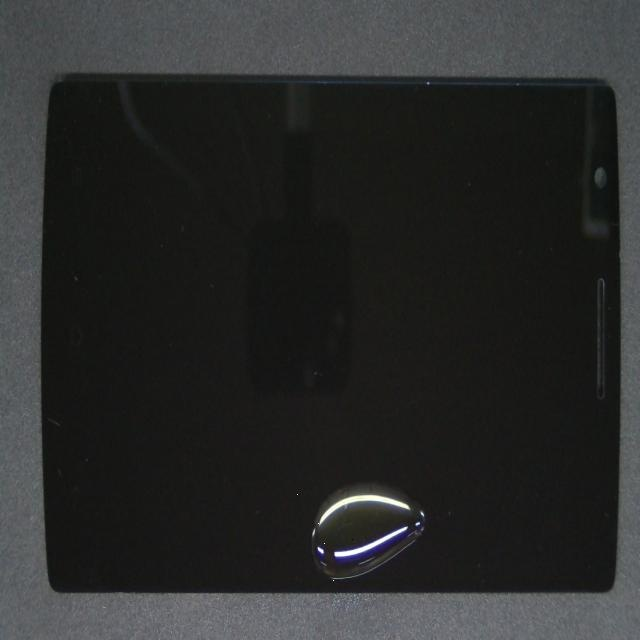oil: (137, 229, 456, 640)
